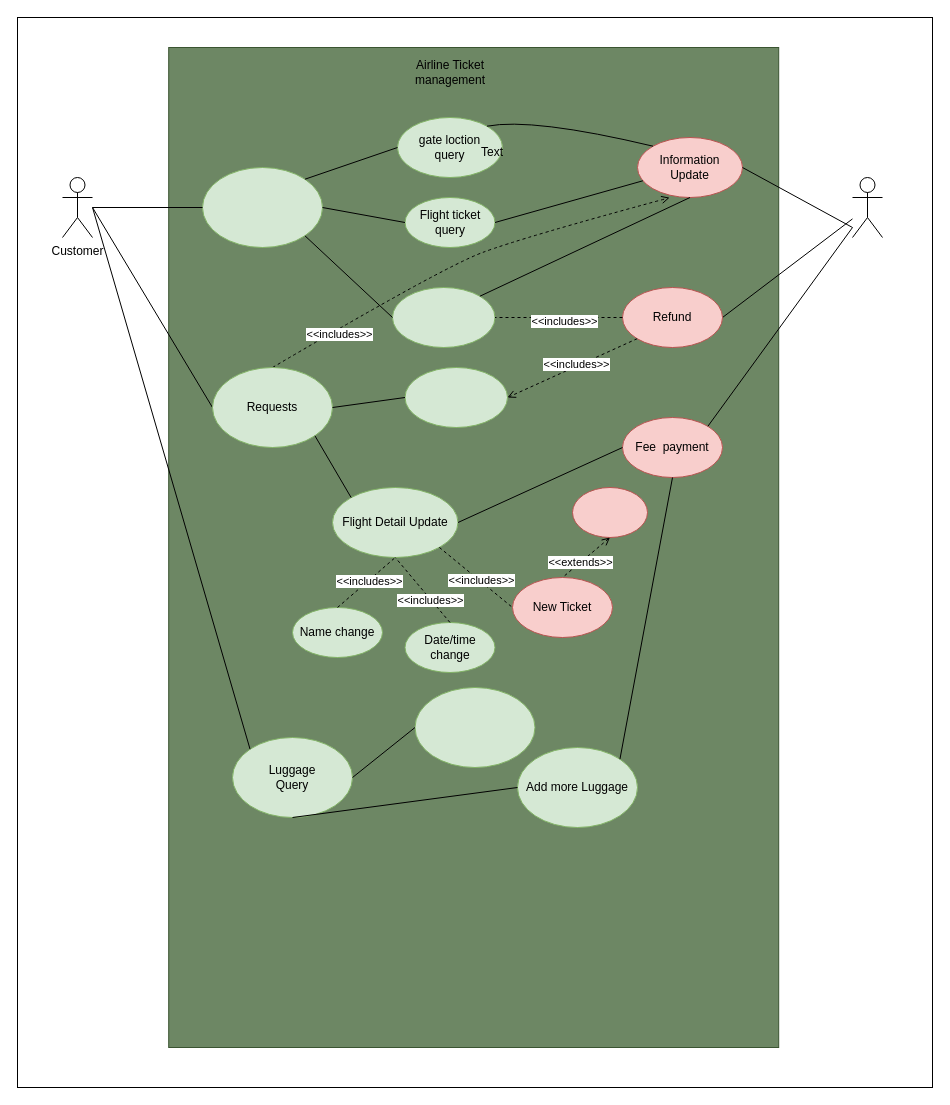
Image size: 950x1105. Some labels were removed from this diagram. Here are the shapes that lost their labels. From the top down, the centre of each, then its label:
At [262,207]: "Query's".
At [867,207]: "Customer Support Specialist".
At [443,317]: "Flight Delay query".
At [456,397]: "Flight Cancellation".
At [610,512]: "New Flight".
At [474,727]: "Luggage Regulation guidance".
